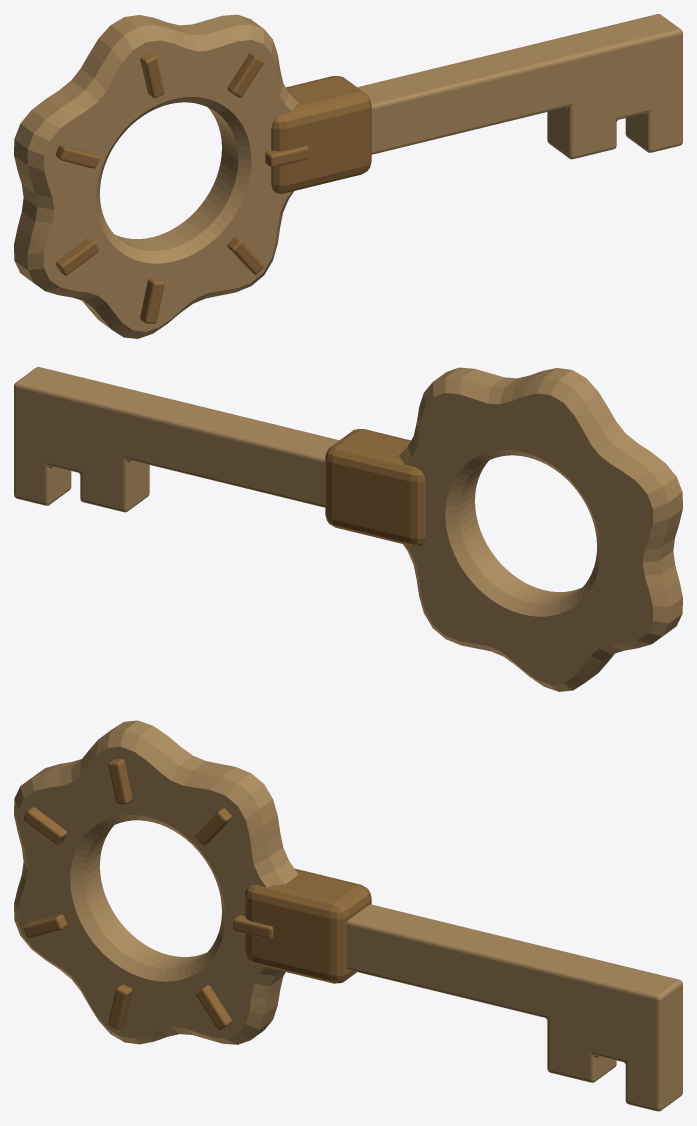
Rendered from VAULT_KEY.hi.glb.
The picture shows the model from 3 angles, top to bottom: view 1: azimuth 30°, elevation 25°; view 2: azimuth 150°, elevation 25°; view 3: azimuth 330°, elevation 25°; orthographic projection.
Visible parts, largest first — view 1: Body_Mesh; view 2: Body_Mesh; view 3: Body_Mesh.
Part boxes in pixels (<box>): Body_Mesh: <box>14,14,682,338</box>; Body_Mesh: <box>14,367,682,691</box>; Body_Mesh: <box>14,720,682,1111</box>.
Size of the model in its own units: 1.08 by 0.4956 by 0.106.
